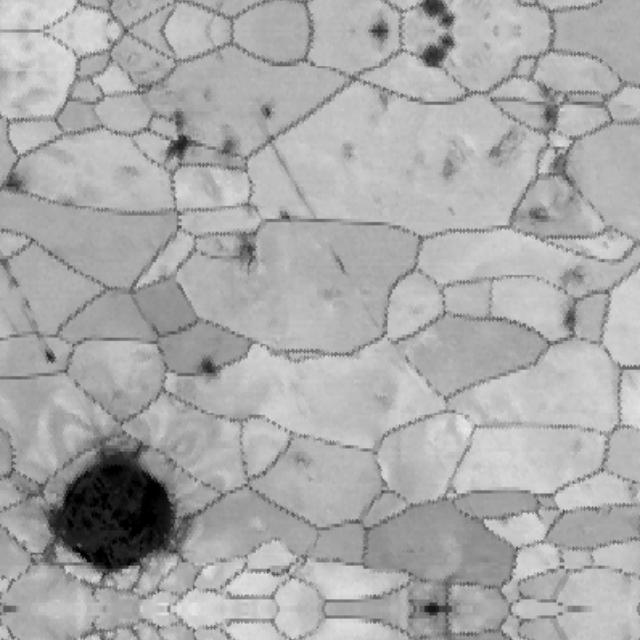good_void: (37, 433, 197, 577), (539, 143, 586, 214), (407, 20, 460, 80), (544, 292, 593, 341), (483, 127, 531, 172), (162, 100, 189, 176), (228, 227, 271, 273), (515, 198, 558, 238), (433, 136, 471, 178), (28, 325, 60, 369), (410, 0, 456, 30), (288, 447, 320, 483), (216, 121, 243, 162), (531, 99, 563, 132), (0, 169, 28, 205), (186, 356, 225, 380), (327, 243, 349, 278), (335, 134, 359, 158), (266, 206, 290, 230), (373, 83, 391, 110), (367, 30, 391, 43), (367, 17, 391, 30), (260, 100, 270, 122)
